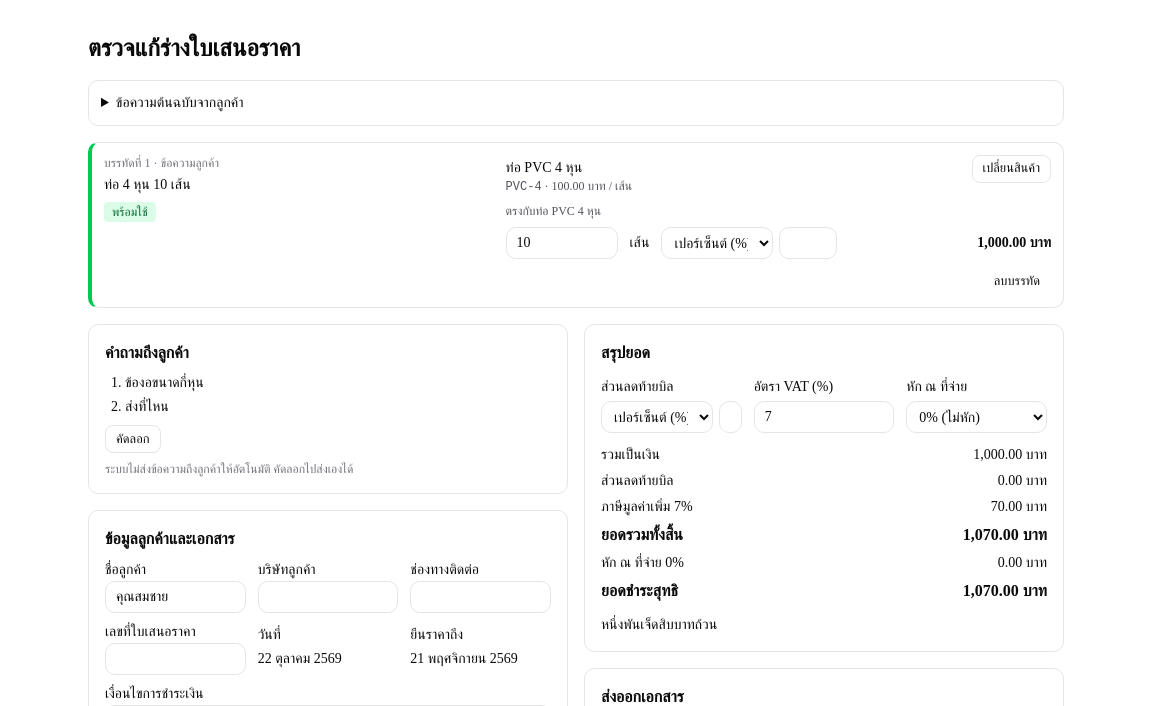
Test: number inputs › stores a baht line discount as integer satang
The image size is (1152, 706).
Select "บาท" in the dropdown named "ประเภทส่วนลด บรรทัดที่ 1" at x=717, y=243, box [661,227,773,259]
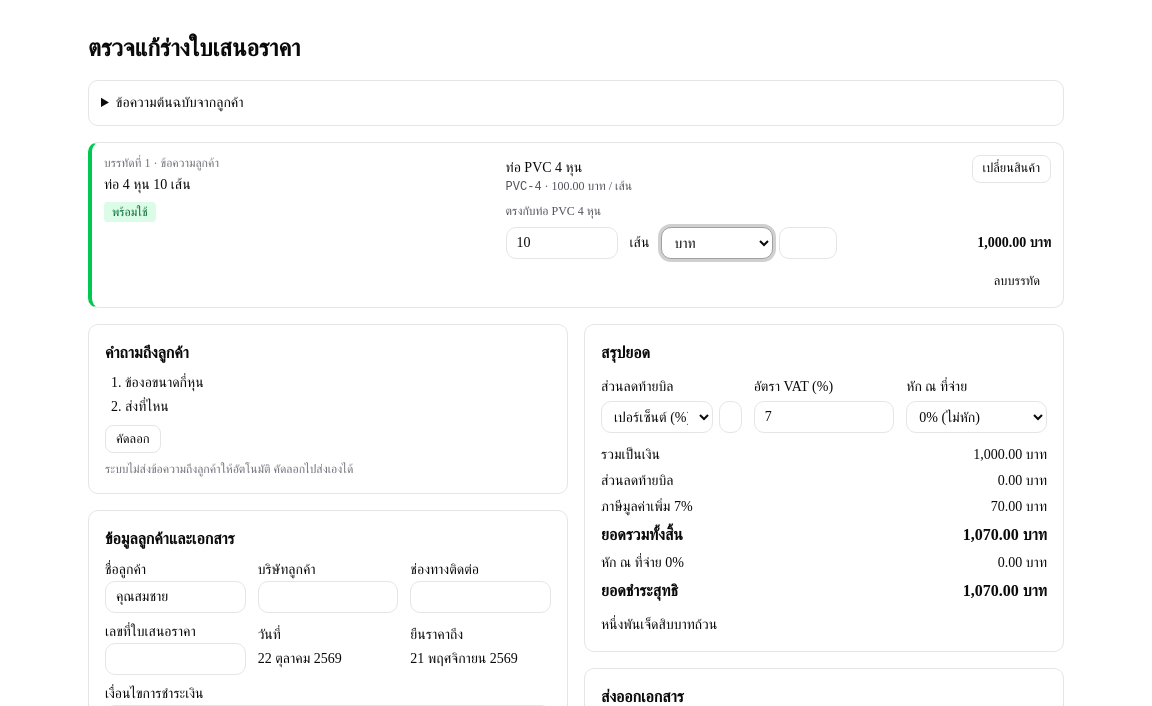
Type "150.5" into the field named "ส่วนลด บรรทัดที่ 1" at x=808, y=243, box [779,227,837,259]
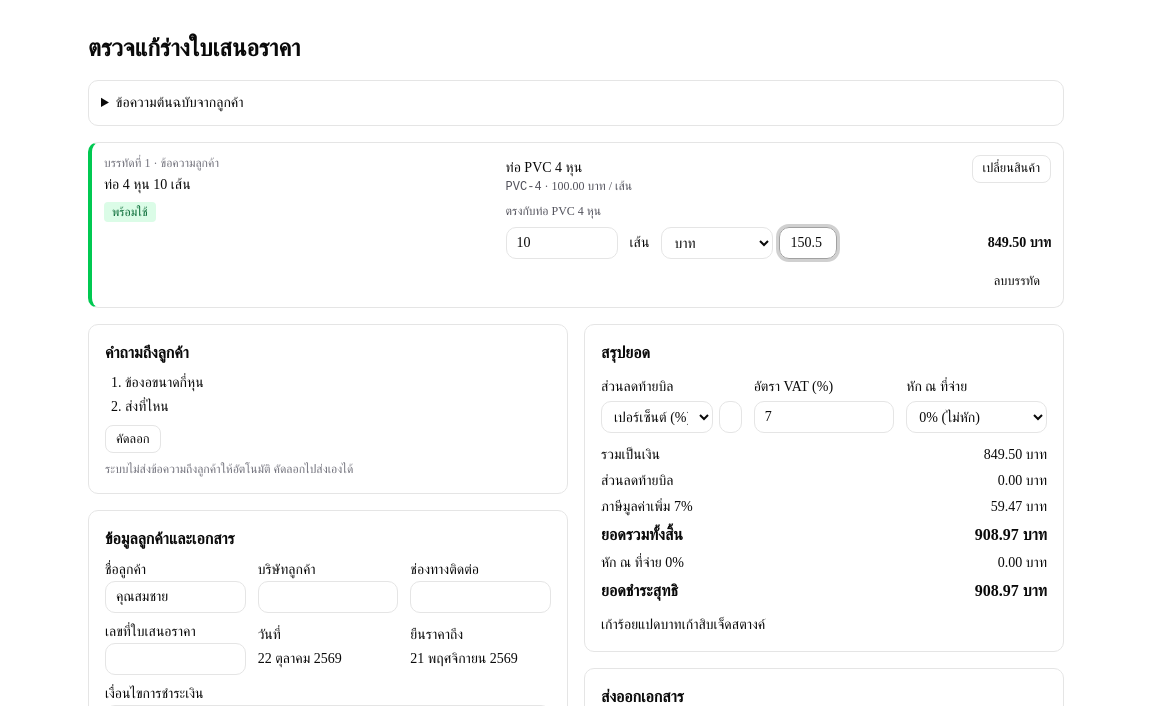
Result: the 1st text "849.50 บาท" is shown at [988,235,1051,250]
